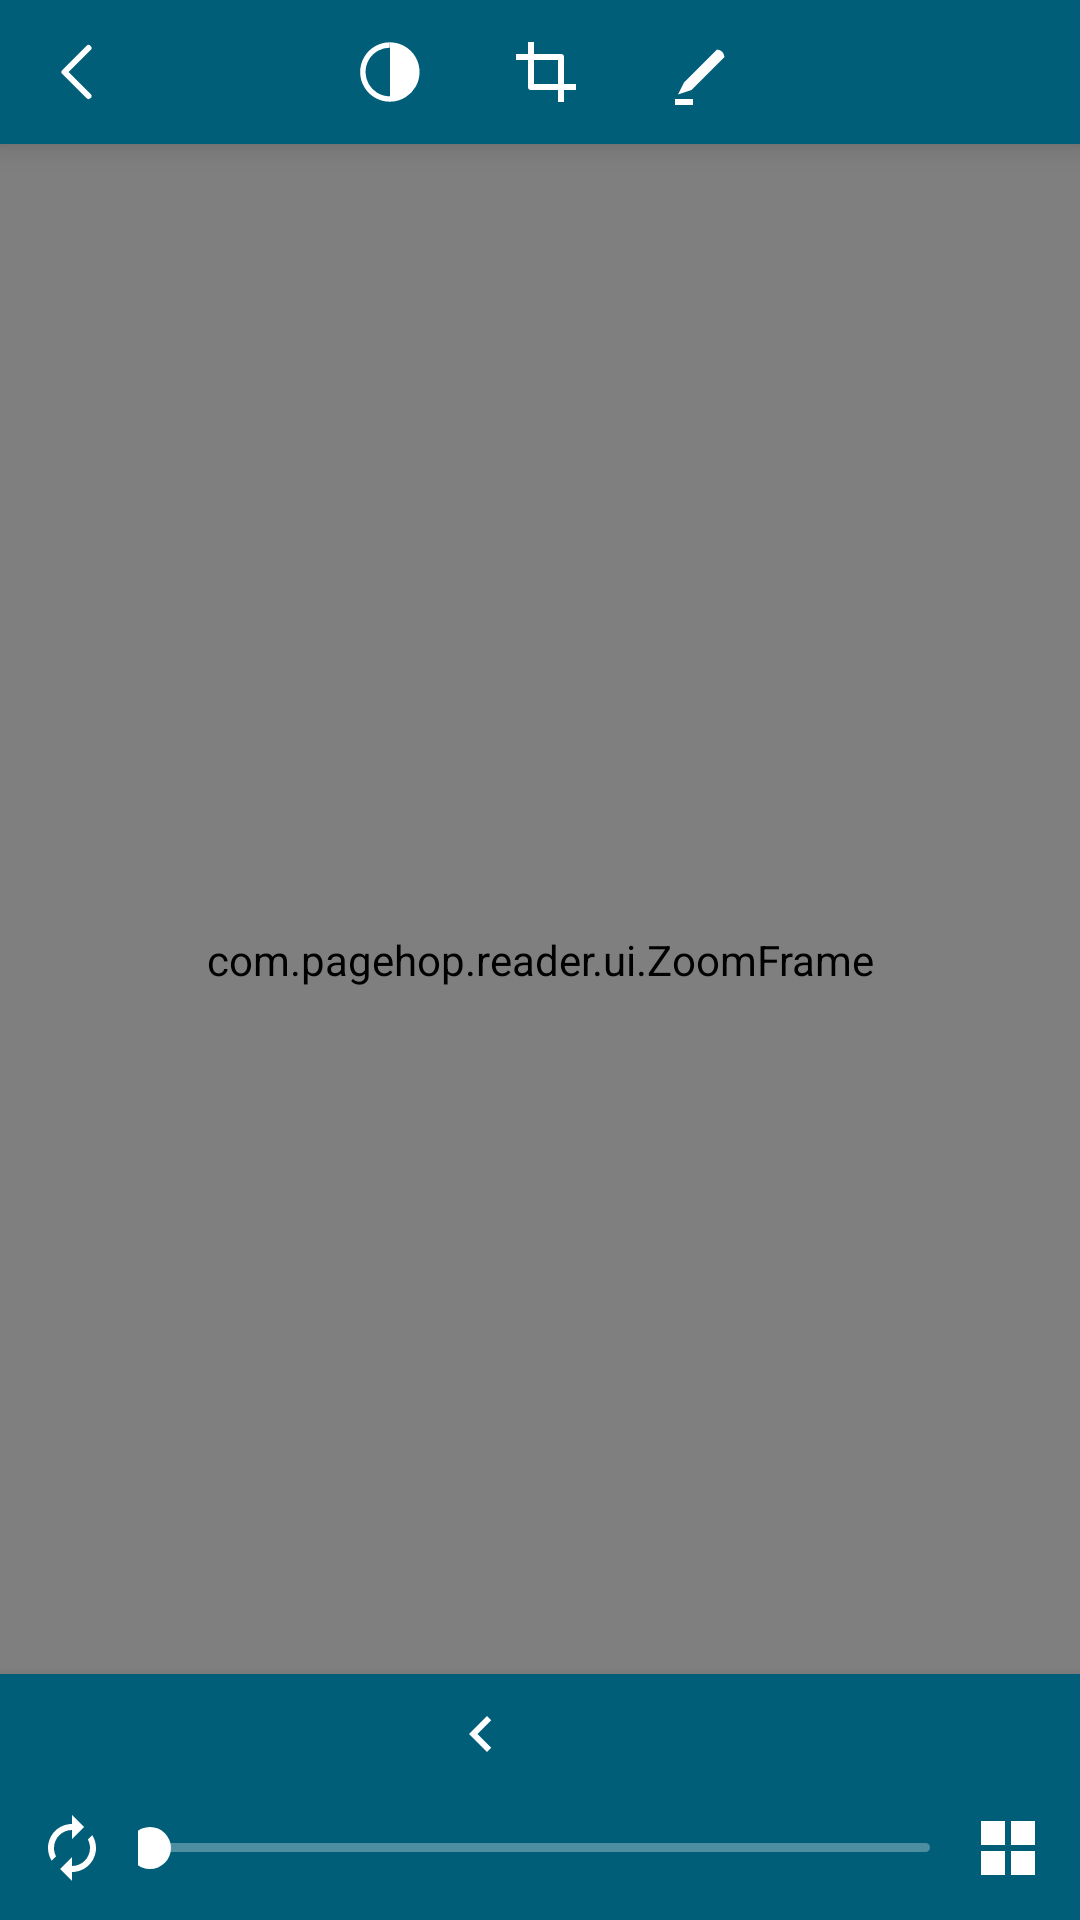

Named icons in this screenshot (1080 x 1920) and their bounding boxes, (left=x1, top=y1, right=x2, bottom=y2):
后退: (left=469, top=1716, right=491, bottom=1752)
批注: (left=675, top=49, right=725, bottom=105)
缩略图: (left=981, top=1821, right=1035, bottom=1875)
自动旋转: (left=48, top=1815, right=96, bottom=1881)
裁边: (left=516, top=42, right=576, bottom=102)
返回: (left=61, top=44, right=92, bottom=100)
颜色: (left=360, top=42, right=420, bottom=102)
